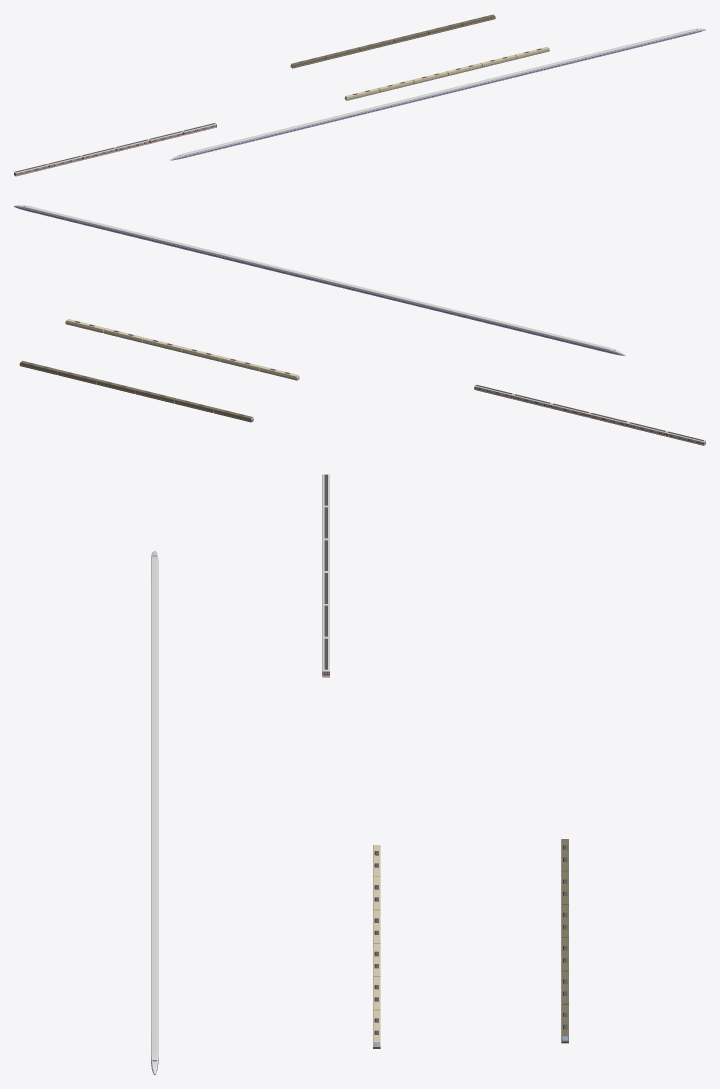
File: Train.fbx
The picture shows the model from 3 angles, top to bottom: view 1: azimuth 30°, elevation 25°; view 2: azimuth 150°, elevation 25°; view 3: azimuth 270°, elevation 25°; orthographic projection. The views are drawn at different scales.
Parts seen in each view (by area): view 1: N700, 223, 221, 近鉄8800; view 2: N700, 221, 223, 近鉄8800; view 3: N700, 223, 221, 近鉄8800.
Boxes of the visible parts, <box> form: N700: <box>170,28,705,160</box>; 223: <box>290,14,495,68</box>; 221: <box>344,47,549,100</box>; 近鉄8800: <box>14,123,216,176</box>; N700: <box>14,205,625,355</box>; 221: <box>65,319,299,380</box>; 223: <box>19,360,253,422</box>; 近鉄8800: <box>474,384,705,445</box>; N700: <box>151,551,158,1074</box>; 223: <box>561,839,568,1043</box>; 221: <box>373,845,380,1048</box>; 近鉄8800: <box>322,474,329,677</box>.
Size of the model in its own units: 39008 by 2327 by 10901.
